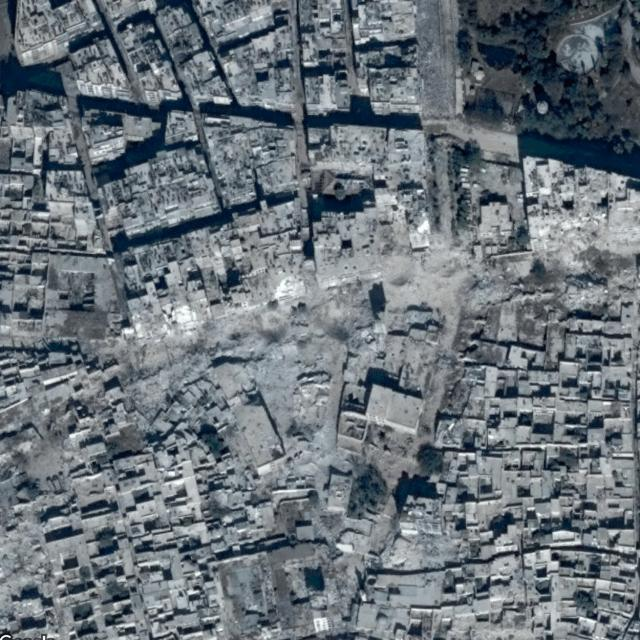damaged_building: (115, 199, 640, 471), (0, 487, 73, 619)
